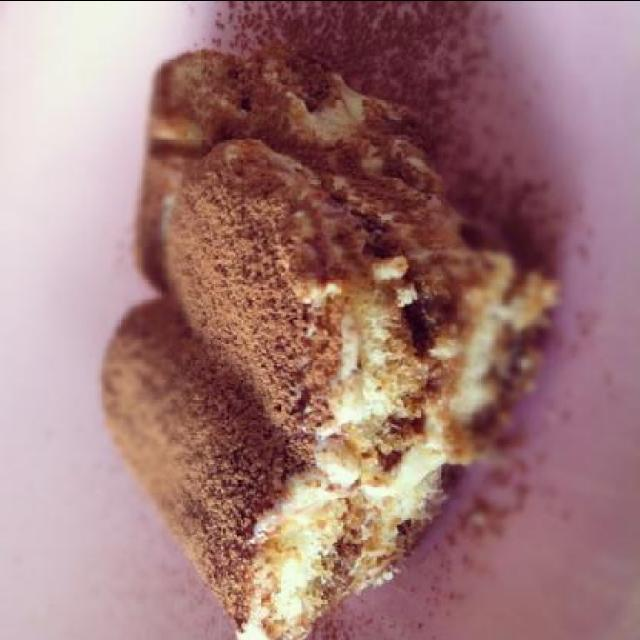Tiramisu: (89, 70, 526, 587)
